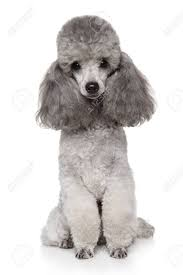Poodle: (25, 13, 168, 266)
